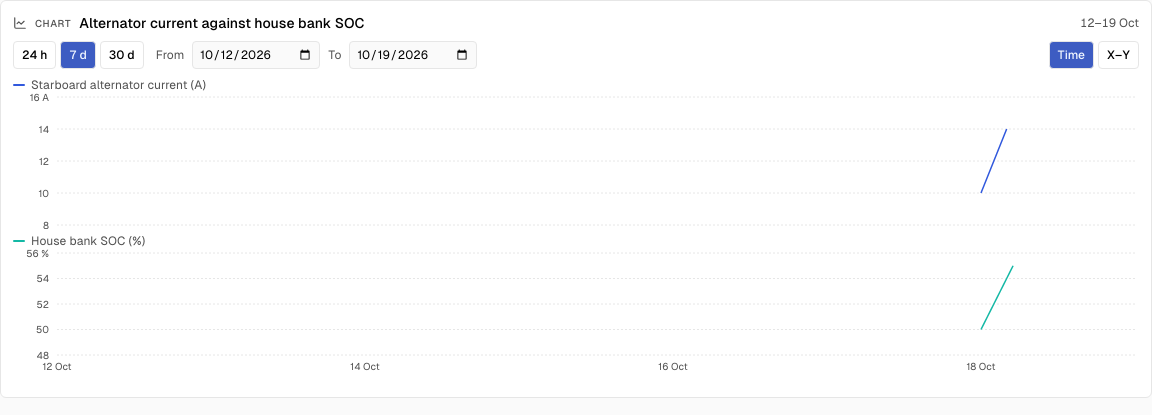
AssistantTelemetryChartCard › toggles between Time and X–Y
expect the text "buckets paired" is not shown: met
Click the button "X–Y" at (1119, 55), box [1098,41,1139,69]
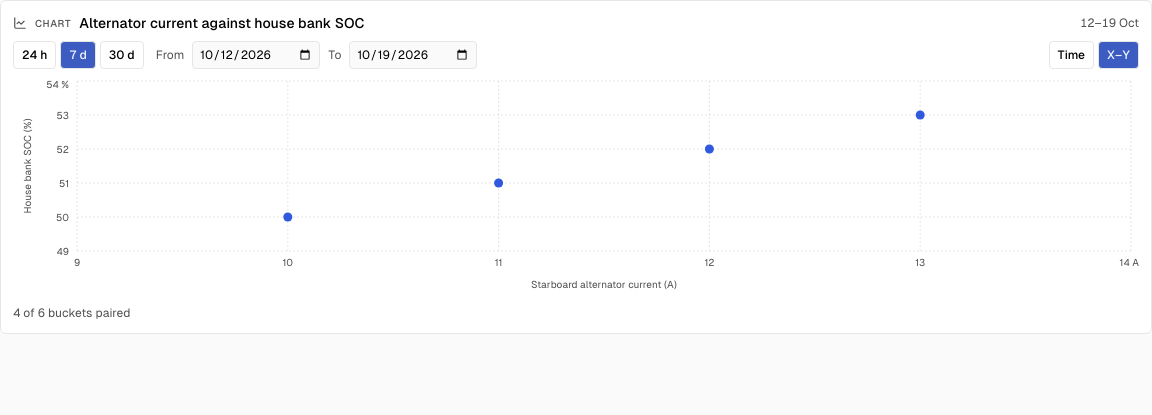
expect the text "4 of 6 buckets paired" is shown: met, box [13,306,130,320]
Click the button "Time" at (1071, 55), box [1048,41,1094,69]
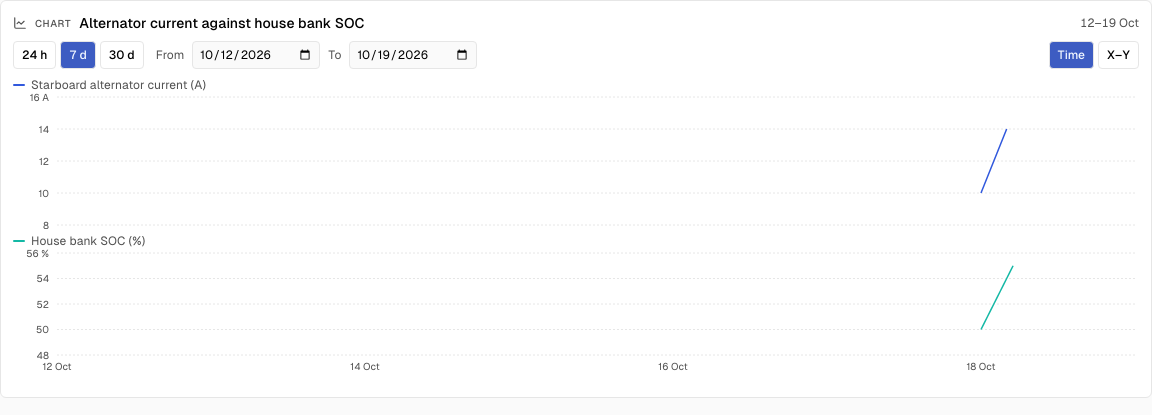
expect the text "buckets paired" is gone: met
